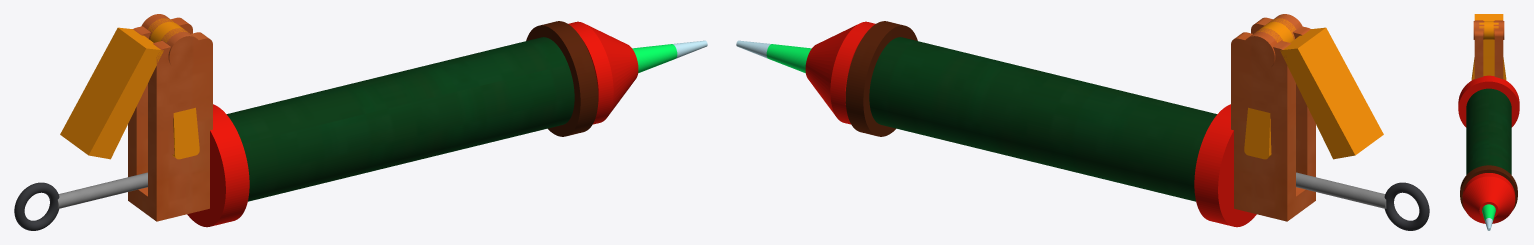
The model's file is Handtools_caulking_gun__0022.glb.
The picture shows the model from 3 angles, left to right: view 1: azimuth 30°, elevation 25°; view 2: azimuth 150°, elevation 25°; view 3: azimuth 270°, elevation 25°; orthographic projection. The views are drawn at different scales.
Visible parts, largest first — view 1: barrel_body::barrel_cradle, barrel_body::handle_frame, barrel_body::grip_wing, barrel_body::rear_cap, barrel_body::front_collar, front_cap::front_cone, trigger::trigger_blade, plunger::plunger_rod, plunger::pull_ring, front_cap::nozzle_cone, front_cap::white_tip; view 2: barrel_body::barrel_cradle, barrel_body::handle_frame, barrel_body::grip_wing, barrel_body::rear_cap, barrel_body::front_collar, front_cap::front_cone, trigger::trigger_blade, plunger::plunger_rod, plunger::pull_ring, front_cap::nozzle_cone, front_cap::white_tip; view 3: barrel_body::barrel_cradle, front_cap::front_cone, barrel_body::rear_cap, barrel_body::handle_frame, trigger::trigger_blade, barrel_body::front_collar, barrel_body::grip_wing, front_cap::nozzle_cone, front_cap::white_tip.
Part boxes in pixels (left/top/right/bottom): barrel_body::barrel_cradle: left=226, top=37, right=574, bottom=201; barrel_body::handle_frame: left=128, top=14, right=212, bottom=221; barrel_body::grip_wing: left=60, top=27, right=163, bottom=159; barrel_body::rear_cap: left=187, top=104, right=249, bottom=227; barrel_body::front_collar: left=526, top=21, right=598, bottom=136; front_cap::front_cone: left=568, top=21, right=638, bottom=124; trigger::trigger_blade: left=148, top=18, right=199, bottom=159; plunger::plunger_rod: left=57, top=172, right=147, bottom=208; plunger::pull_ring: left=14, top=182, right=59, bottom=230; front_cap::nozzle_cone: left=632, top=44, right=677, bottom=73; front_cap::white_tip: left=673, top=40, right=707, bottom=58; barrel_body::barrel_cradle: left=869, top=37, right=1217, bottom=201; barrel_body::handle_frame: left=1231, top=14, right=1315, bottom=221; barrel_body::grip_wing: left=1280, top=27, right=1383, bottom=159; barrel_body::rear_cap: left=1194, top=104, right=1256, bottom=227; barrel_body::front_collar: left=845, top=21, right=917, bottom=136; front_cap::front_cone: left=805, top=21, right=875, bottom=124; trigger::trigger_blade: left=1244, top=18, right=1295, bottom=159; plunger::plunger_rod: left=1296, top=172, right=1386, bottom=208; plunger::pull_ring: left=1384, top=182, right=1429, bottom=230; front_cap::nozzle_cone: left=766, top=44, right=811, bottom=73; front_cap::white_tip: left=736, top=40, right=770, bottom=58; barrel_body::barrel_cradle: left=1466, top=88, right=1511, bottom=174; front_cap::front_cone: left=1462, top=173, right=1515, bottom=223; barrel_body::rear_cap: left=1458, top=75, right=1519, bottom=127; barrel_body::handle_frame: left=1473, top=20, right=1504, bottom=79; trigger::trigger_blade: left=1471, top=21, right=1506, bottom=80; barrel_body::front_collar: left=1460, top=165, right=1517, bottom=209; barrel_body::grip_wing: left=1474, top=14, right=1503, bottom=20; front_cap::nozzle_cone: left=1482, top=204, right=1495, bottom=220; front_cap::white_tip: left=1485, top=218, right=1492, bottom=230.
Bounding box in the file's own units: 0.4667 × 0.1313 × 0.0707.
Materials: 10 (6 with a texture image).
